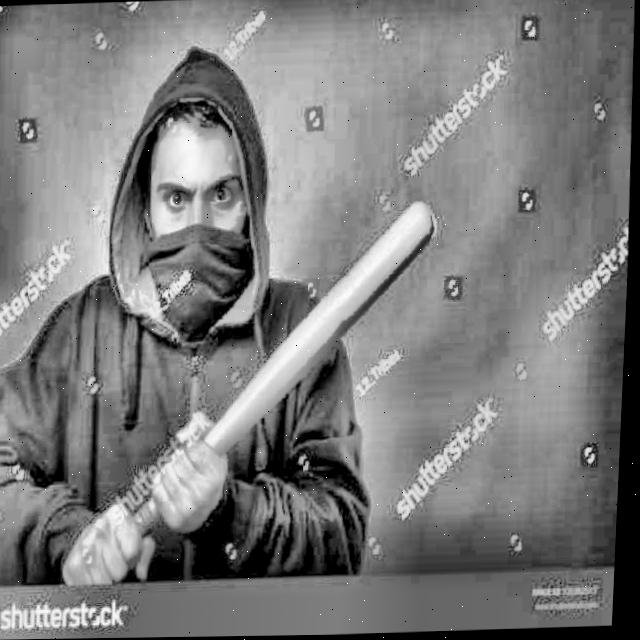robbery: (0, 39, 447, 587)
tongkat pemukul: (46, 192, 446, 586)
